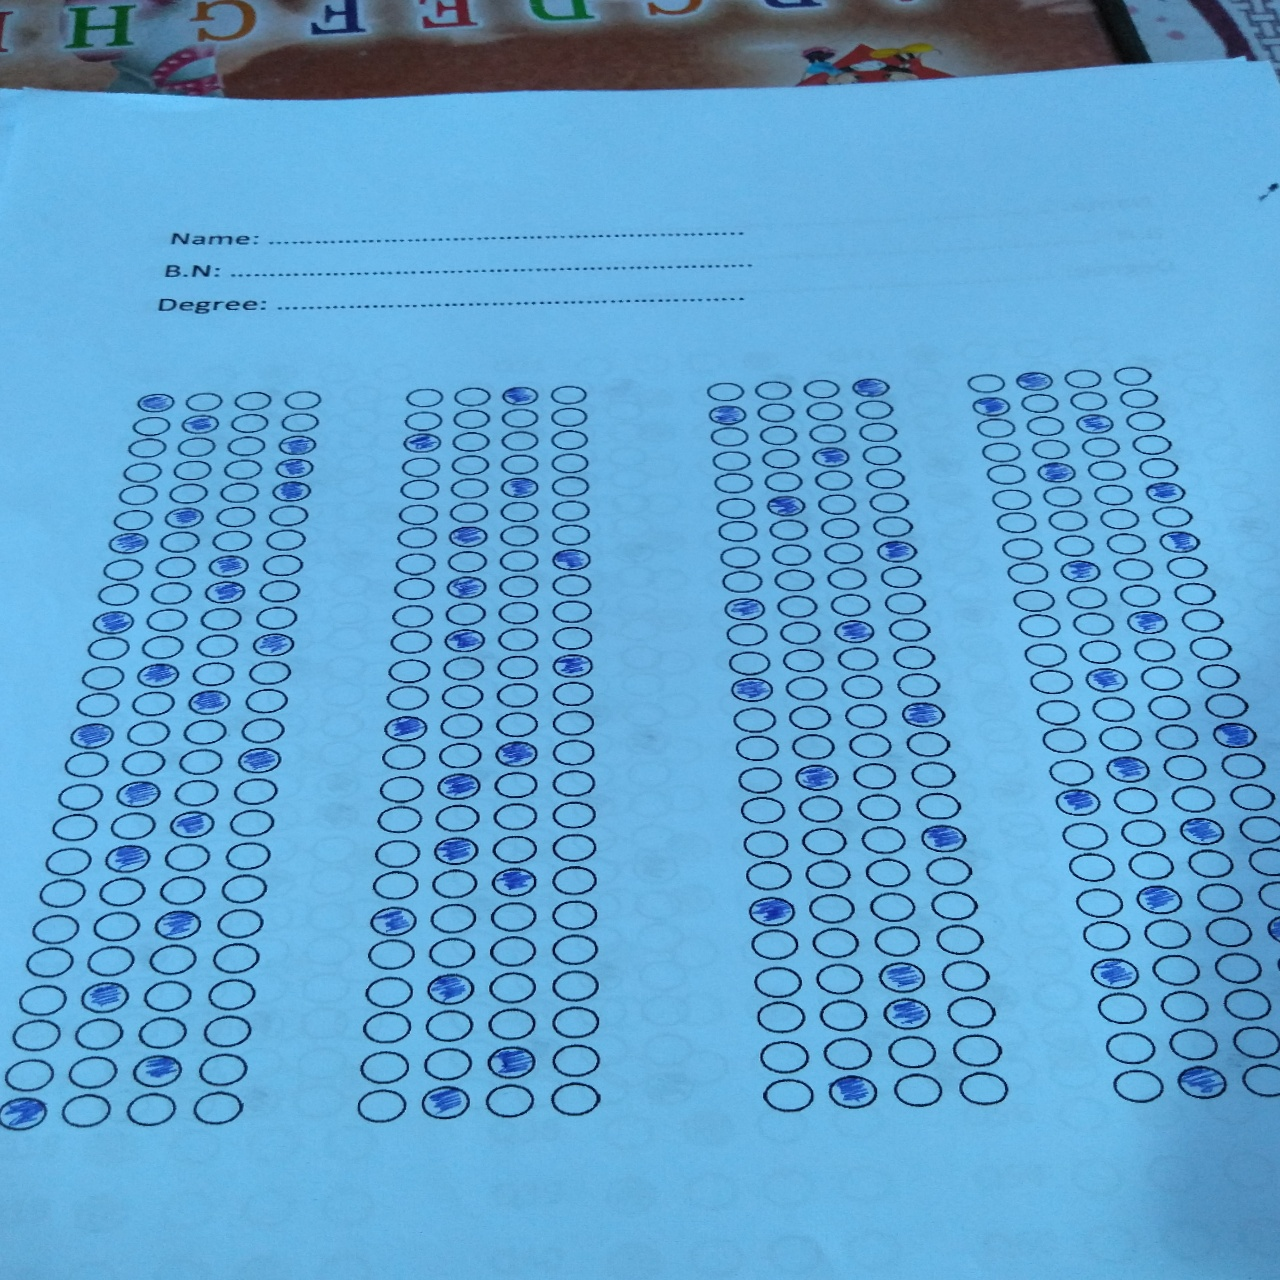not-c: (1167, 1026, 1221, 1064), (808, 924, 862, 962), (887, 1033, 940, 1071), (64, 1054, 118, 1091), (958, 1070, 1012, 1108), (1080, 918, 1133, 955), (821, 1035, 874, 1073), (61, 1092, 114, 1130), (354, 1088, 407, 1125), (362, 973, 415, 1010), (483, 1083, 536, 1121), (550, 1082, 602, 1119), (550, 1042, 602, 1080), (952, 1033, 1005, 1070), (1111, 1068, 1164, 1105), (1158, 987, 1211, 1024), (1214, 949, 1267, 987), (1151, 952, 1204, 989), (939, 958, 992, 995), (760, 1039, 812, 1076), (812, 960, 865, 998), (549, 1005, 602, 1041), (753, 999, 806, 1035), (4, 1057, 55, 1095), (753, 964, 804, 1001), (125, 1091, 178, 1128), (549, 969, 601, 1006), (762, 1078, 815, 1115), (892, 1073, 945, 1109), (946, 995, 999, 1032), (1104, 1030, 1157, 1067), (1095, 989, 1148, 1026), (1223, 987, 1275, 1023), (816, 998, 869, 1034), (749, 927, 802, 964), (871, 922, 924, 959), (935, 921, 988, 958), (930, 887, 982, 924), (358, 1050, 410, 1085), (798, 824, 851, 859), (740, 828, 794, 862), (362, 1009, 413, 1046), (145, 942, 197, 978), (191, 1090, 243, 1125), (142, 978, 195, 1012), (866, 890, 919, 924), (741, 859, 794, 893), (924, 855, 976, 888), (83, 942, 134, 978), (13, 1017, 63, 1053), (198, 1051, 248, 1087), (488, 1006, 538, 1041), (423, 1046, 474, 1081), (1233, 1022, 1280, 1060), (1065, 852, 1117, 886), (23, 946, 76, 979), (862, 856, 914, 888), (1074, 887, 1126, 920), (1126, 849, 1179, 881), (91, 908, 142, 942), (212, 942, 263, 976), (207, 978, 258, 1012), (72, 1017, 122, 1051), (202, 1014, 252, 1048), (423, 1008, 474, 1042), (1194, 881, 1245, 915), (1226, 779, 1276, 813), (215, 907, 266, 940), (136, 1015, 188, 1048), (805, 892, 857, 925), (803, 857, 855, 890), (1142, 918, 1193, 951), (1203, 915, 1254, 948), (490, 768, 539, 802), (366, 937, 415, 971), (488, 971, 537, 1005), (550, 799, 600, 832), (428, 937, 478, 969), (549, 932, 599, 965), (30, 912, 81, 945), (18, 983, 68, 1016), (1186, 846, 1237, 879), (1117, 816, 1167, 849), (156, 874, 207, 906), (434, 802, 483, 835), (490, 801, 539, 833), (549, 864, 598, 897), (549, 831, 599, 863), (226, 808, 277, 839), (1061, 819, 1111, 851), (223, 840, 274, 871), (1216, 749, 1267, 779), (430, 867, 479, 899), (489, 833, 538, 865), (550, 768, 599, 799), (549, 736, 598, 768), (549, 900, 598, 932), (490, 900, 539, 932), (428, 903, 477, 934), (488, 934, 537, 966), (164, 840, 213, 872), (39, 876, 88, 907), (796, 794, 845, 825), (730, 706, 779, 737), (1167, 783, 1218, 813), (857, 792, 907, 823), (731, 733, 782, 763), (1159, 751, 1210, 782), (230, 776, 279, 806), (177, 747, 226, 777), (43, 846, 93, 877), (97, 876, 147, 906), (219, 873, 268, 904), (914, 790, 964, 821), (738, 794, 788, 824), (735, 765, 784, 796), (726, 647, 775, 678), (171, 777, 222, 806), (1046, 757, 1096, 787), (437, 738, 485, 769), (372, 870, 420, 900), (1241, 1062, 1280, 1099), (118, 749, 168, 778), (61, 749, 110, 778), (55, 782, 104, 811), (858, 825, 907, 855), (436, 712, 486, 740), (1235, 813, 1280, 845), (380, 742, 428, 771), (377, 774, 425, 803), (376, 805, 424, 835), (374, 839, 422, 869), (125, 719, 173, 748), (50, 812, 98, 842), (108, 811, 156, 840), (1112, 785, 1160, 815), (850, 762, 898, 791), (239, 716, 286, 745), (847, 731, 896, 760), (908, 761, 956, 789), (1016, 611, 1064, 639), (245, 660, 294, 687), (86, 634, 132, 662), (193, 632, 240, 660), (495, 710, 542, 738), (191, 661, 238, 689), (79, 663, 125, 692), (129, 689, 176, 717), (723, 620, 770, 648), (782, 675, 829, 703), (787, 703, 833, 731), (844, 702, 891, 730), (833, 645, 880, 673), (896, 672, 942, 700), (905, 730, 952, 758), (1145, 694, 1192, 722), (1022, 640, 1069, 668), (440, 654, 488, 681), (384, 658, 433, 685), (384, 683, 433, 710), (1201, 692, 1250, 719), (790, 733, 836, 761), (839, 672, 885, 700), (886, 615, 932, 644), (1043, 726, 1089, 754), (1153, 723, 1199, 751), (1089, 696, 1135, 724), (1006, 560, 1051, 588), (1138, 663, 1184, 692), (1118, 581, 1164, 610), (139, 634, 186, 661), (387, 629, 434, 656), (495, 626, 542, 653), (549, 625, 595, 652), (492, 682, 539, 709), (549, 680, 595, 707), (549, 709, 595, 736), (74, 692, 121, 719), (182, 719, 229, 745), (775, 620, 822, 647), (781, 647, 828, 674), (1034, 699, 1081, 726), (1012, 588, 1058, 615), (1189, 634, 1233, 662), (1178, 606, 1223, 634), (493, 653, 542, 679), (881, 591, 930, 617), (1244, 845, 1280, 879), (891, 644, 937, 670), (1096, 726, 1142, 753), (1164, 554, 1210, 581), (389, 602, 436, 628), (549, 598, 595, 624), (442, 685, 489, 710), (241, 688, 288, 714), (828, 591, 874, 617), (772, 594, 819, 620), (1027, 670, 1074, 696), (1071, 611, 1117, 636), (1133, 636, 1179, 662), (1194, 663, 1240, 689), (1173, 581, 1217, 608), (1111, 556, 1155, 583), (1001, 535, 1044, 561), (722, 568, 765, 595), (392, 576, 438, 600), (440, 601, 486, 626), (495, 601, 542, 626), (256, 579, 302, 604), (148, 581, 195, 606), (95, 583, 142, 607), (143, 607, 190, 632), (198, 607, 245, 632), (253, 606, 300, 631), (101, 557, 145, 583), (1051, 532, 1096, 558), (151, 554, 197, 579), (1078, 639, 1124, 663), (1060, 367, 1105, 392), (1104, 530, 1148, 556), (825, 566, 869, 592), (719, 544, 762, 570), (769, 542, 812, 567), (822, 542, 865, 567), (768, 516, 811, 542), (496, 574, 543, 598), (450, 384, 495, 409), (1064, 585, 1109, 610), (259, 554, 305, 578), (394, 552, 440, 576), (396, 456, 442, 479), (399, 409, 444, 433), (448, 477, 493, 501), (495, 549, 540, 572), (496, 406, 542, 429), (549, 574, 594, 598), (869, 515, 914, 538), (1149, 505, 1194, 529), (964, 373, 1009, 396), (396, 503, 440, 527), (879, 564, 922, 588), (1078, 435, 1122, 459), (395, 527, 440, 551), (447, 501, 491, 524), (444, 550, 489, 573), (497, 524, 542, 547), (549, 475, 593, 498), (818, 516, 863, 539), (866, 491, 911, 515), (1046, 509, 1090, 532), (1040, 484, 1084, 508), (1110, 365, 1155, 388), (811, 468, 856, 491), (707, 448, 751, 471), (803, 400, 847, 423), (159, 530, 202, 554), (772, 567, 815, 592), (401, 384, 447, 407), (448, 407, 493, 429), (714, 520, 760, 543), (714, 496, 760, 518), (979, 440, 1024, 462), (1136, 457, 1182, 479), (1068, 390, 1114, 413), (1019, 392, 1064, 414), (862, 467, 907, 489), (120, 459, 163, 483), (264, 527, 307, 551), (399, 477, 442, 501), (549, 523, 592, 546), (974, 416, 1017, 440), (855, 421, 898, 444), (805, 422, 849, 445), (751, 377, 795, 401), (448, 452, 492, 475), (497, 501, 542, 523), (497, 452, 542, 475), (497, 430, 542, 452), (547, 499, 592, 522), (816, 493, 860, 516), (994, 511, 1039, 533), (1099, 508, 1144, 530), (1085, 459, 1130, 482), (990, 488, 1035, 510), (985, 464, 1029, 486), (1028, 437, 1073, 459), (1117, 388, 1162, 410), (851, 399, 896, 421), (858, 444, 903, 467), (761, 470, 805, 492), (710, 471, 755, 493), (757, 448, 802, 470), (755, 402, 799, 424), (708, 424, 753, 447), (704, 381, 749, 403), (225, 434, 267, 457), (549, 406, 591, 429), (547, 428, 590, 451), (166, 482, 210, 504), (547, 451, 591, 474), (1092, 483, 1136, 505), (1023, 416, 1067, 438), (1131, 434, 1175, 456), (799, 377, 843, 400), (754, 424, 799, 445), (125, 437, 168, 459), (175, 436, 217, 458), (222, 458, 264, 481), (219, 481, 261, 503), (267, 505, 309, 527), (449, 431, 493, 452), (1123, 411, 1167, 433), (546, 384, 590, 406), (282, 389, 324, 411), (211, 529, 252, 551), (113, 509, 154, 531), (213, 506, 256, 527), (172, 459, 215, 481), (116, 485, 158, 506), (280, 411, 321, 433), (131, 416, 172, 437), (182, 392, 224, 411), (231, 392, 273, 411), (229, 413, 268, 434), (1258, 880, 1280, 913), (1276, 947, 1280, 985)
taken-c: (365, 903, 422, 941), (483, 1043, 538, 1082), (128, 1051, 183, 1089), (417, 1083, 472, 1121), (422, 969, 477, 1007), (874, 958, 928, 995), (1085, 955, 1141, 992), (1130, 881, 1185, 918), (826, 1074, 879, 1110), (1, 1094, 49, 1133), (1175, 1064, 1228, 1099), (881, 995, 933, 1032), (77, 980, 130, 1015), (486, 865, 539, 900), (379, 712, 433, 745), (1175, 813, 1228, 847), (433, 835, 485, 869), (1051, 785, 1105, 818), (435, 769, 486, 803), (490, 736, 542, 770), (918, 822, 971, 855), (745, 896, 798, 928), (1102, 755, 1155, 787), (102, 843, 154, 874), (794, 762, 844, 794), (1212, 720, 1262, 751), (1083, 665, 1133, 696), (166, 808, 216, 839), (152, 908, 200, 940), (440, 626, 488, 655), (550, 652, 599, 680), (442, 574, 491, 602), (546, 547, 595, 576), (444, 523, 493, 551), (134, 661, 182, 689), (184, 687, 232, 715), (114, 779, 162, 808), (1155, 529, 1203, 557), (69, 721, 116, 749), (829, 617, 876, 645), (728, 676, 775, 704), (900, 700, 947, 728), (236, 747, 282, 774), (1125, 610, 1172, 636), (1057, 558, 1104, 585), (1142, 481, 1189, 508), (1034, 459, 1081, 486), (495, 384, 542, 410), (763, 493, 810, 519), (721, 597, 768, 622), (251, 632, 297, 658), (399, 433, 444, 458), (498, 476, 544, 501), (90, 610, 134, 635), (202, 580, 248, 604), (872, 539, 919, 563), (206, 553, 251, 578), (850, 375, 896, 399), (1073, 411, 1116, 436), (107, 531, 151, 554), (969, 394, 1012, 418), (1012, 370, 1057, 393), (162, 506, 205, 530), (707, 404, 749, 428), (181, 413, 224, 435), (812, 445, 853, 469), (132, 392, 177, 413), (272, 457, 314, 479), (270, 479, 312, 502), (275, 435, 319, 456), (1264, 913, 1280, 949)
